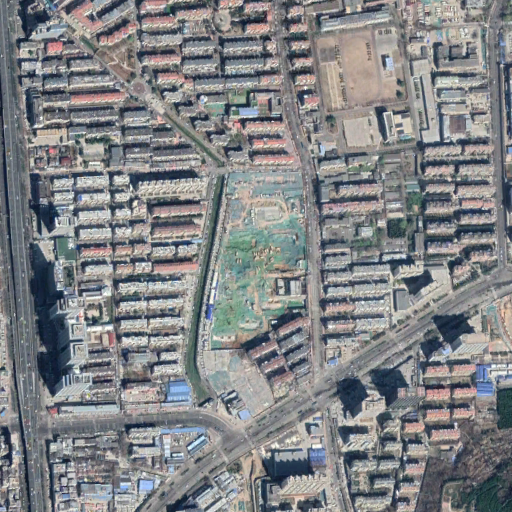cw: (195, 166, 307, 347)
